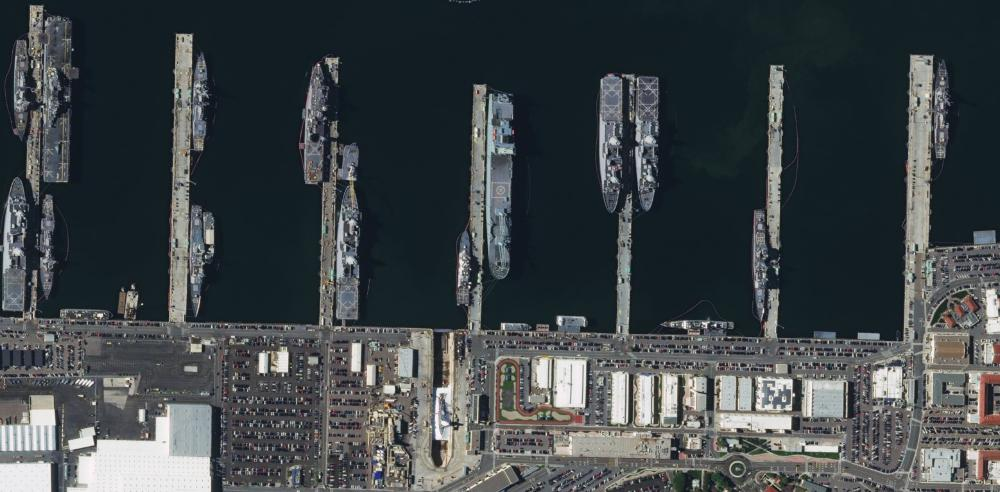amphiby: (598, 73, 628, 214), (336, 184, 366, 325), (635, 72, 664, 215), (4, 174, 29, 313), (304, 59, 329, 189)
destroyer: (750, 207, 773, 325), (187, 202, 207, 321)
fregate: (932, 53, 953, 163), (14, 37, 34, 147), (40, 190, 58, 302), (190, 48, 208, 150)
pha: (42, 12, 73, 186)
supply: (487, 89, 518, 281)
